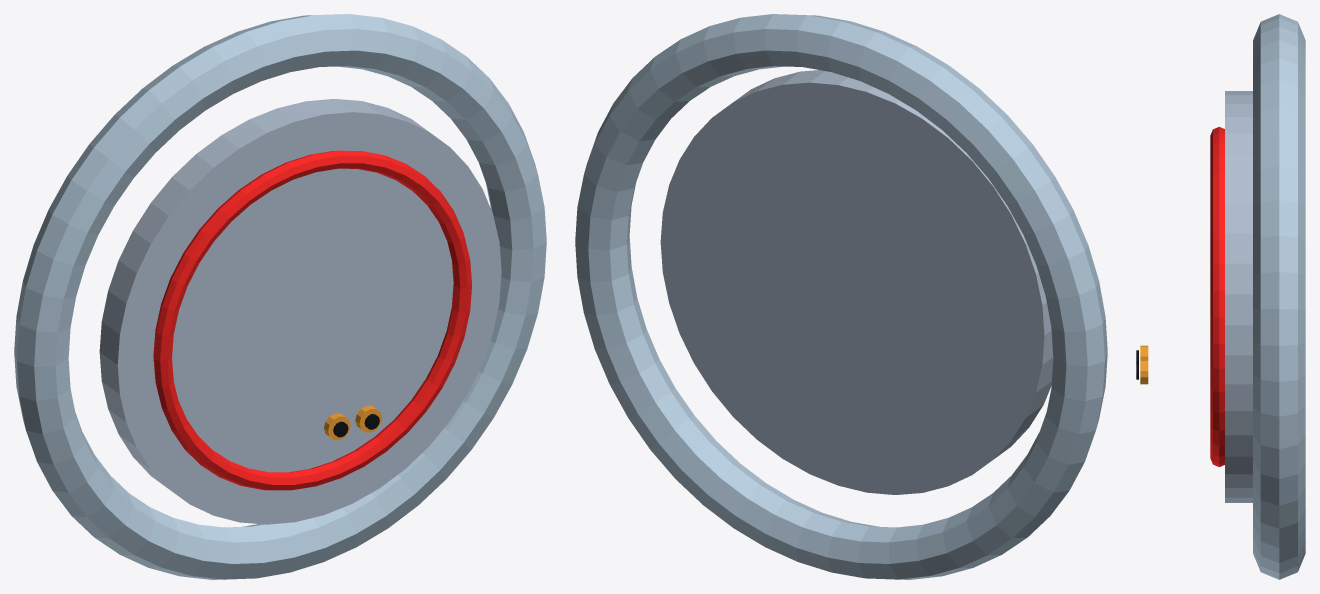
File: 09_L89_ShelterEmergencyEgressHatch.fbx
3 views of the same model, side by side, from view 1: azimuth 30°, elevation 25°; view 2: azimuth 150°, elevation 25°; view 3: azimuth 270°, elevation 25° (orthographic). The views are drawn at different scales.
Visible parts, largest first — view 1: L87_ShelterEmergencyEgressHatch_Part_0001, L87_ShelterEmergencyEgressHatch_Part_0000, L87_ShelterEmergencyEgressHatch_Part_0002; view 2: L87_ShelterEmergencyEgressHatch_Part_0001, L87_ShelterEmergencyEgressHatch_Part_0000; view 3: L87_ShelterEmergencyEgressHatch_Part_0000, L87_ShelterEmergencyEgressHatch_Part_0001, L87_ShelterEmergencyEgressHatch_Part_0002.
Part boxes in pixels (x1,y1,x2,y2): L87_ShelterEmergencyEgressHatch_Part_0001: (99, 99, 501, 524); L87_ShelterEmergencyEgressHatch_Part_0000: (14, 14, 546, 579); L87_ShelterEmergencyEgressHatch_Part_0002: (153, 150, 471, 490); L87_ShelterEmergencyEgressHatch_Part_0001: (660, 70, 1053, 494); L87_ShelterEmergencyEgressHatch_Part_0000: (575, 14, 1107, 579); L87_ShelterEmergencyEgressHatch_Part_0000: (1253, 14, 1305, 579); L87_ShelterEmergencyEgressHatch_Part_0001: (1225, 91, 1252, 502); L87_ShelterEmergencyEgressHatch_Part_0002: (1210, 127, 1224, 466).
Size of the model in its own units: 302 by 302 by 90.2.
